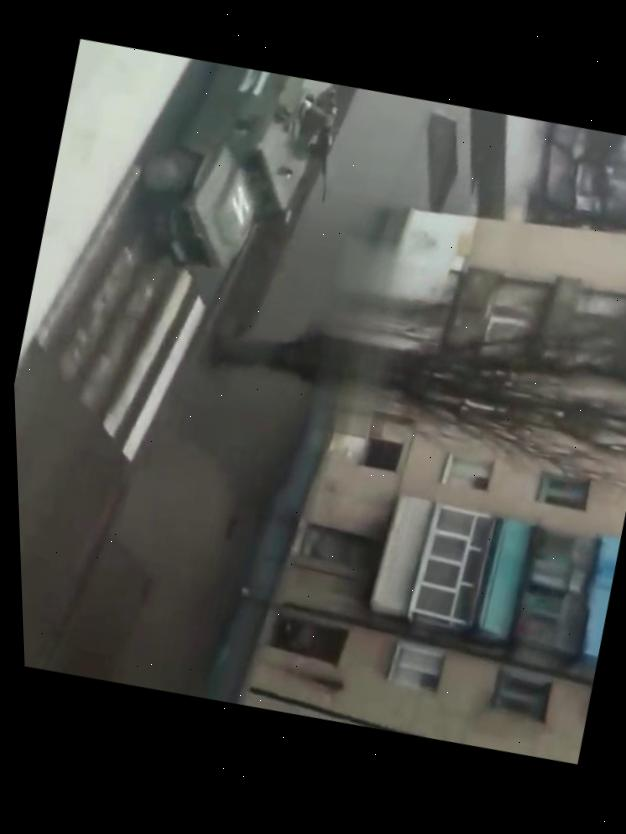armored_car: (117, 44, 348, 298)
